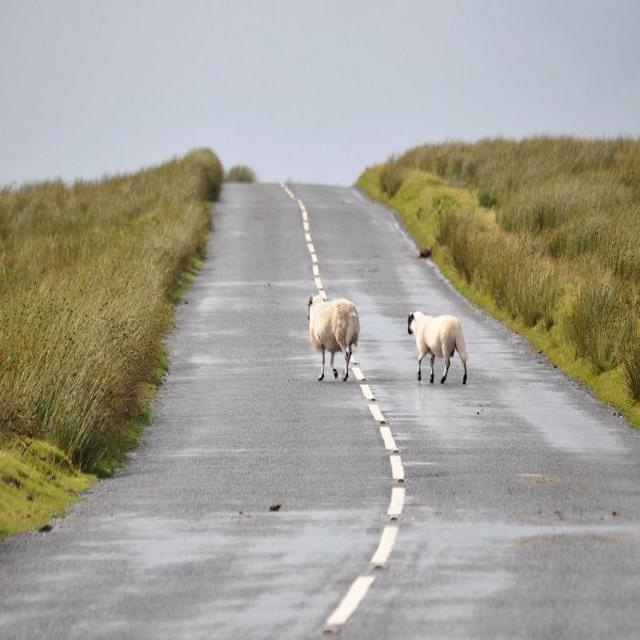Sheep: (406, 309, 468, 386), (308, 295, 360, 381)
